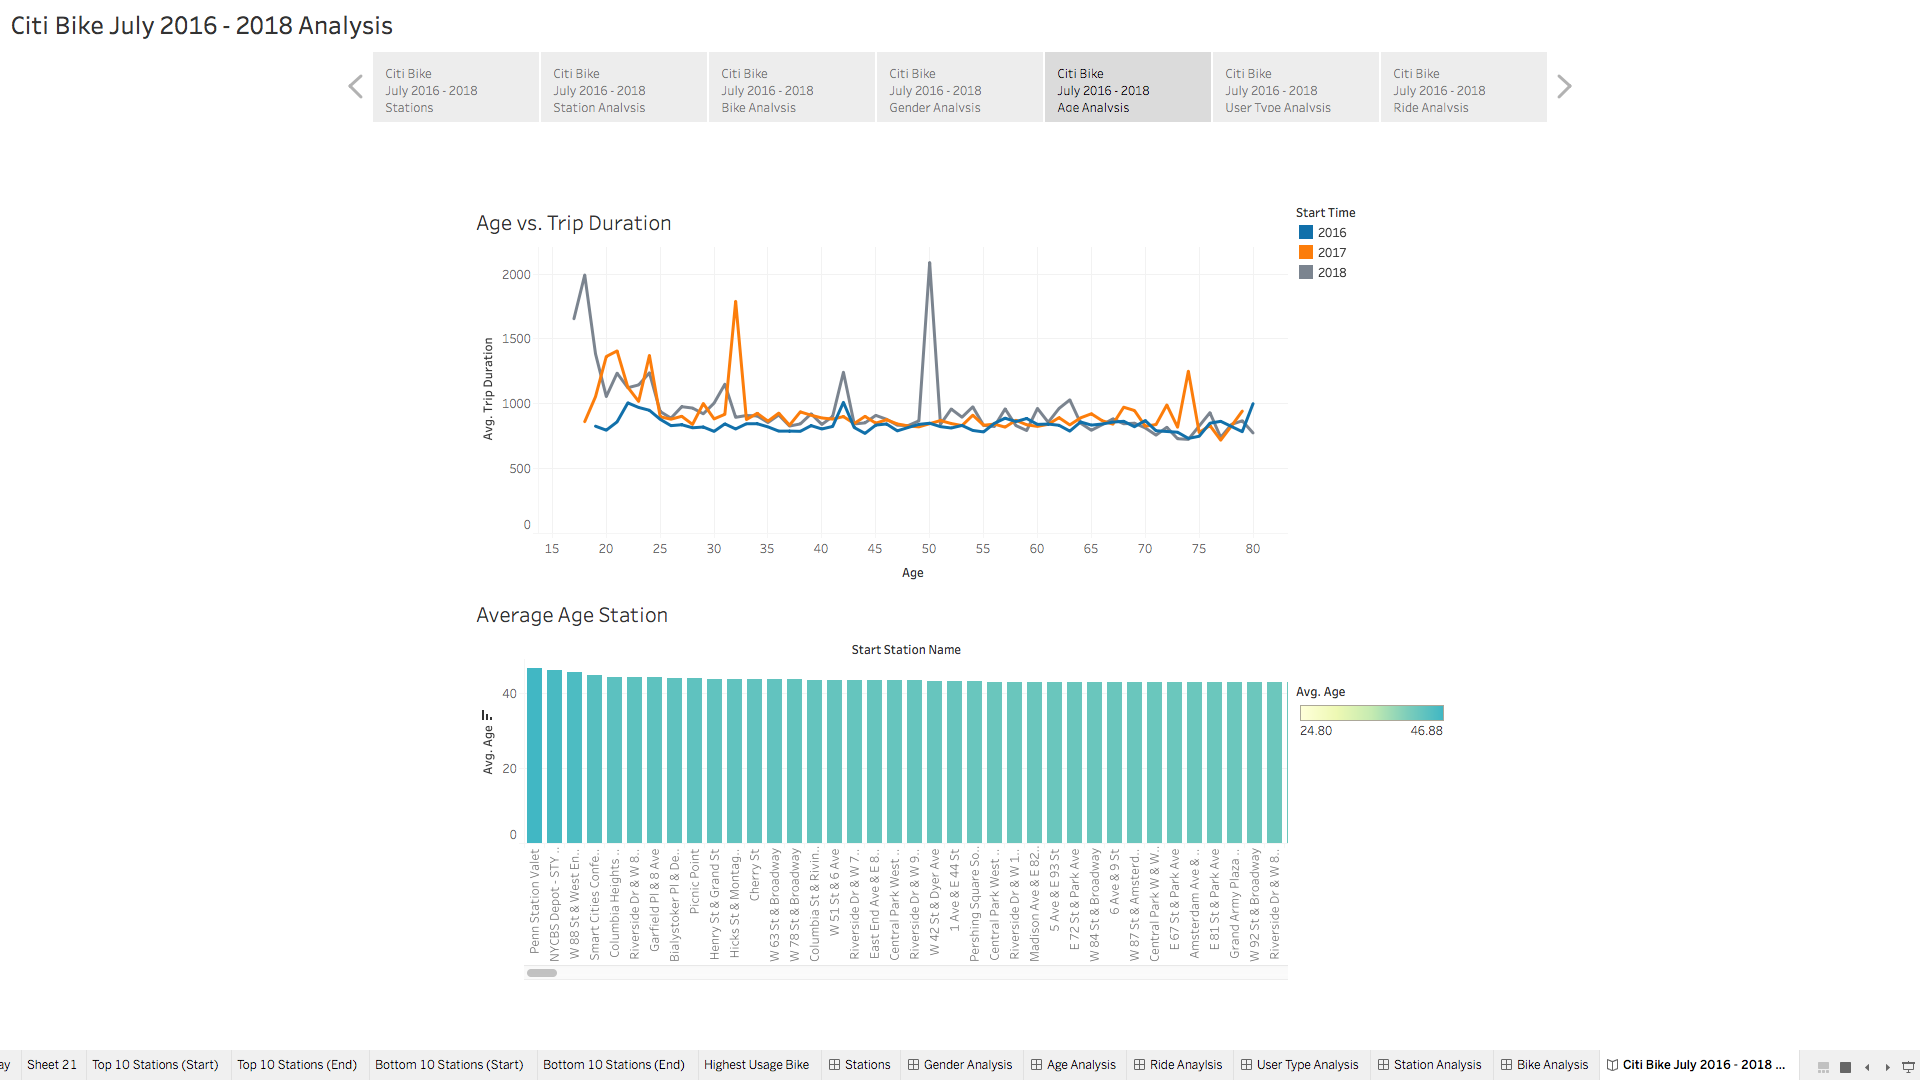

The dashboard page shown, as its layout file describes it:
{"tool":"tableau","page":{"name":"Age Analysis","canvas":[1000,800],"ordinal":0},"visuals":[{"type":"worksheet","title":"Age vs. Trip Duration","mark":"Automatic","rows":["Trip Duration"],"cols":["Calculation_1114218755592425472"],"box":[8,8,824,392]},{"type":"legend","title":"Age vs. Trip Duration","param":"[federated.0inejtl1ina4ko10so5a61pe29fi].[yr:Start Time:ok]","box":[832,8,160,479]},{"type":"worksheet","title":"Average Age Station","mark":"Bar","rows":["Calculation_1114218755592425472"],"cols":["Start Station Name"],"box":[8,400,824,392]},{"type":"legend","title":"Average Age Station","param":"[federated.0inejtl1ina4ko10so5a61pe29fi].[avg:Calculation_1114218755592425472:qk","box":[832,487,160,65]}]}

Visuals, with their boxes on the page's 1000x800 design canvas (x1, y1, x2, y2). These are canvas units, not pixel positions in the 1920x1080 screenshot, which may show the page scaled, cropped or inside an application window:
"Age vs. Trip Duration" worksheet: x1=8 y1=8 x2=832 y2=400
"Age vs. Trip Duration" legend: x1=832 y1=8 x2=992 y2=487
"Average Age Station" worksheet (Bar marks): x1=8 y1=400 x2=832 y2=792
"Average Age Station" legend: x1=832 y1=487 x2=992 y2=552
